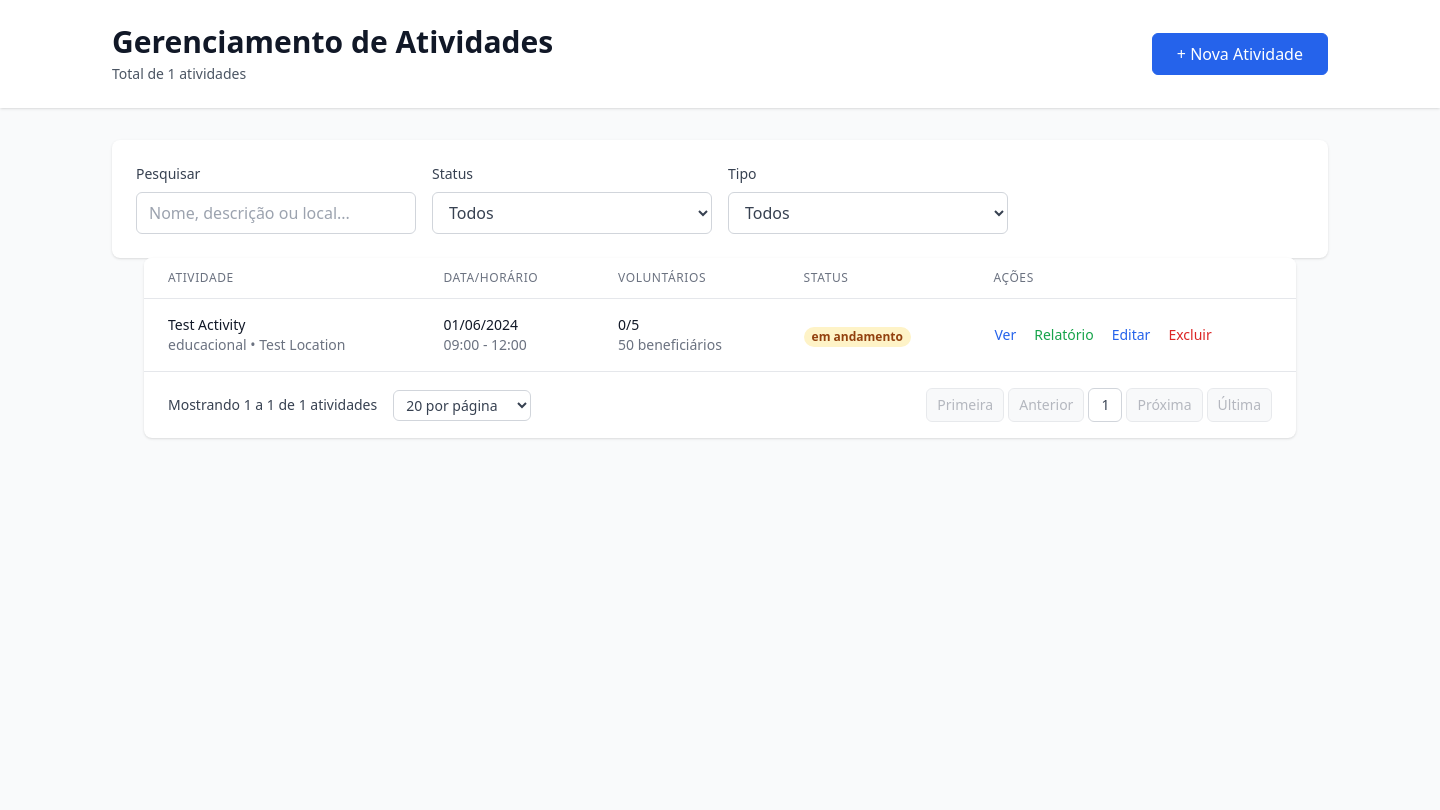
Scenario: ONGActivitiesPage › Activity Report › should open report modal when clicking report button
Click the button "Relatório" at (1064, 335), box [1033,324,1095,346]
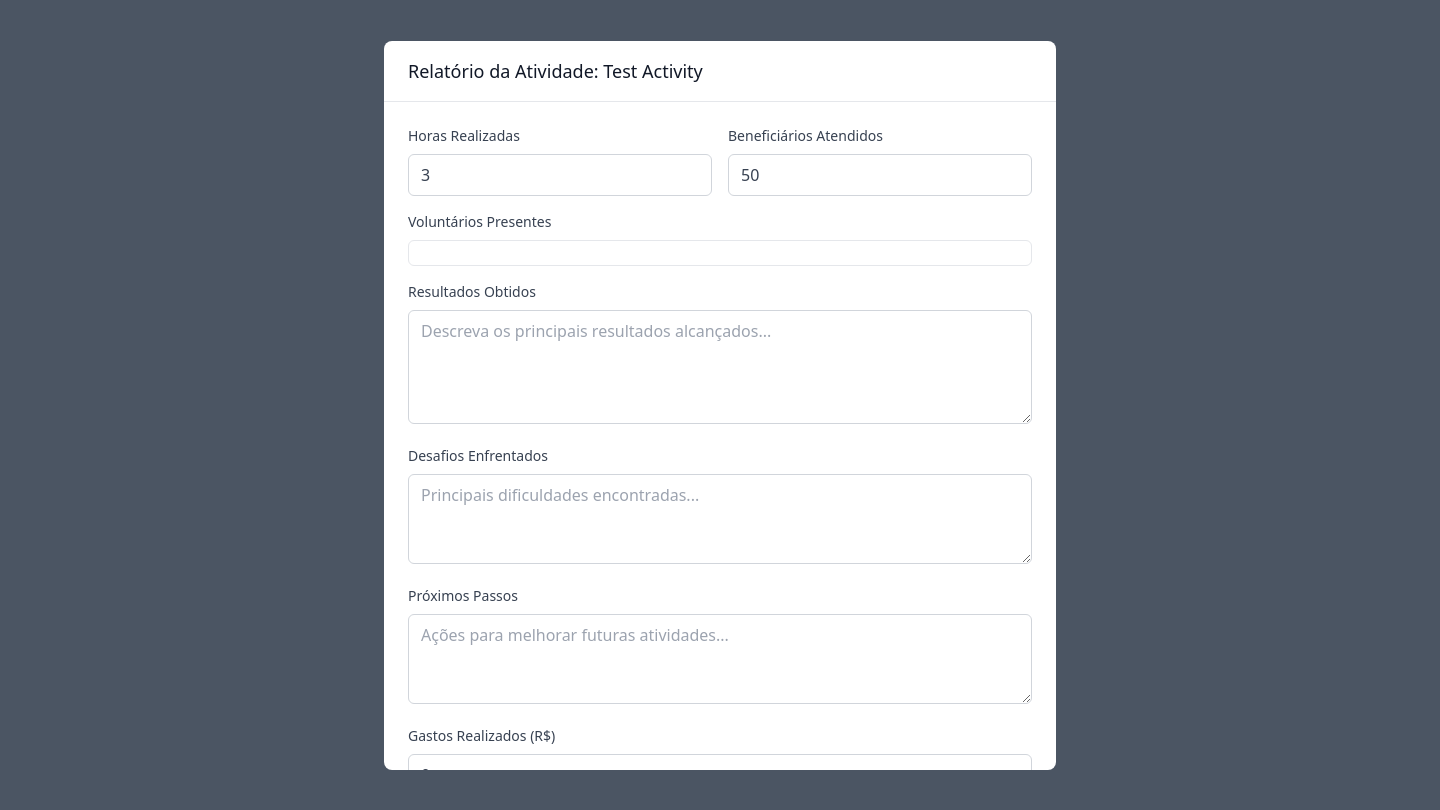
Expected: the heading "Relatório da Atividade: Test Activity" is shown, [408,58,703,82]
Expected: the text "Horas Realizadas" is shown, [408,126,520,144]
Expected: the text "Beneficiários Atendidos" is shown, [728,126,883,144]
